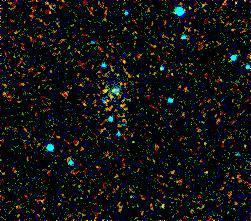star: (87, 74, 117, 104)
